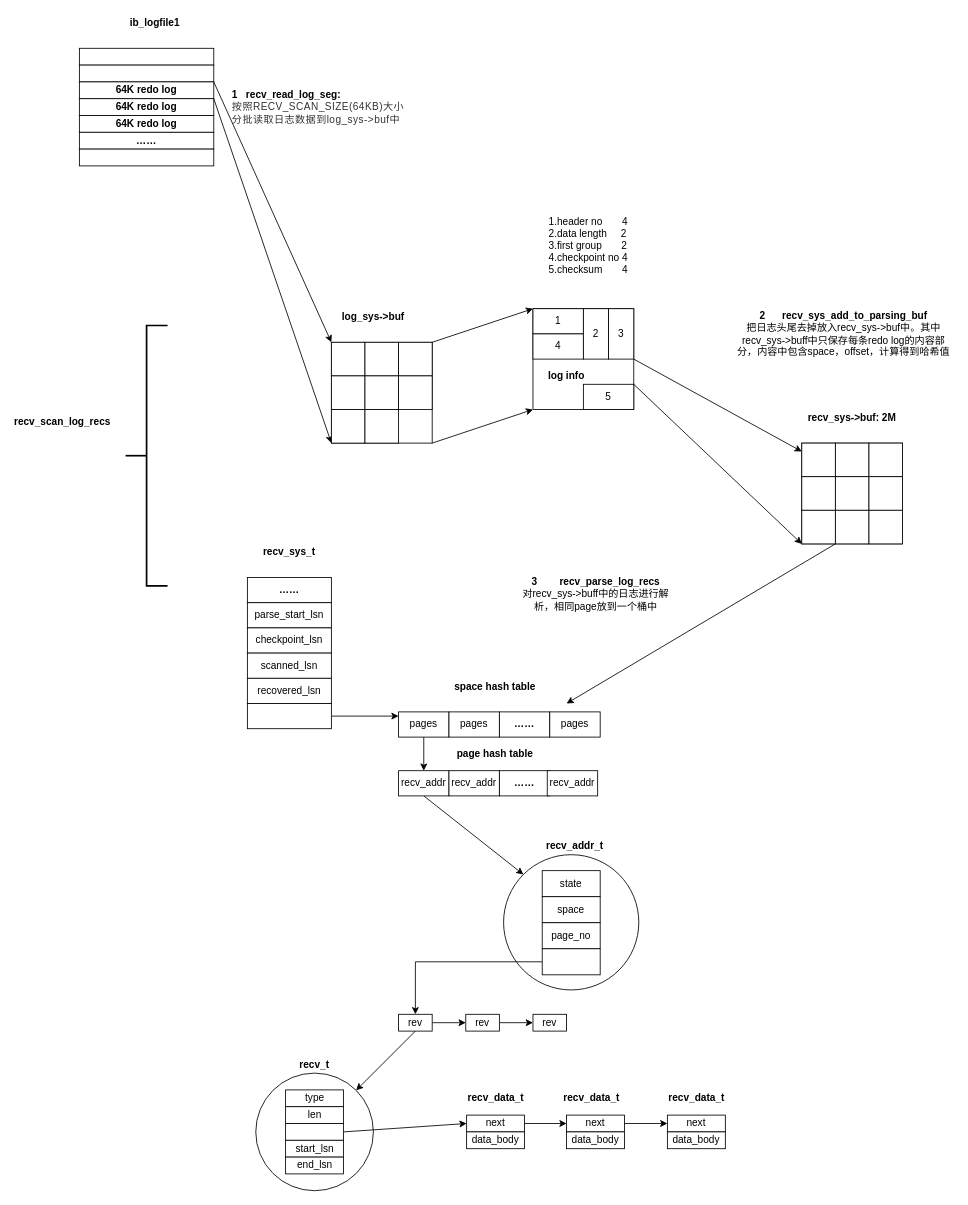
Some shapes in this 968 by 1205 pixel diagram are drawn without their labels. The centre of each missing label's shape, as x and y in pixels:
data: the point at 314,1131
recv_list: the point at 570,961
spaces: the point at 289,716
